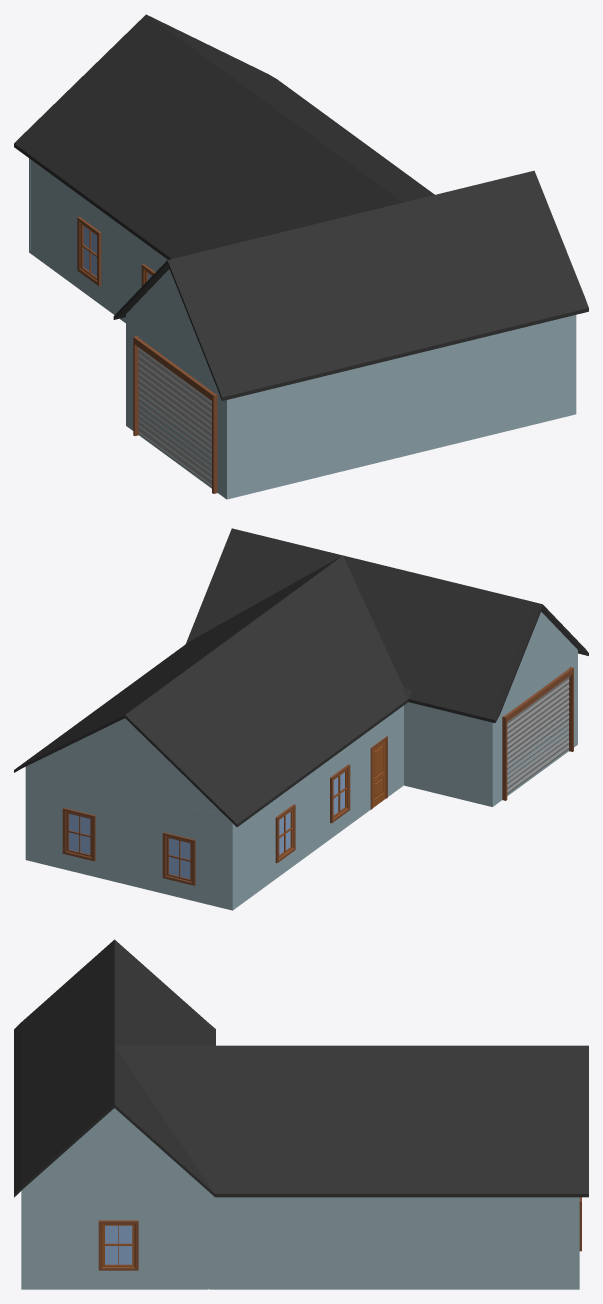
Rendered from house1.fbx.
The picture shows the model from 3 angles, top to bottom: view 1: azimuth 30°, elevation 25°; view 2: azimuth 150°, elevation 25°; view 3: azimuth 270°, elevation 25°; orthographic projection. The views are drawn at different scales.
Parts seen in each view (by area): view 1: Plane, Plane.001, Right, Wall Front.001, Front, Cube.037, Window Frame.001; view 2: Plane.001, Plane, Wall left.001, Wall Front.001, Left, Front, Cube.037, Window Frame.002, Window Frame.003, Door, Window Frame, Window Frame.001 (+2 smaller); view 3: Plane.001, Plane, Wall Back.001, Back, Window Frame.004, Window Glass.004, Floor.001.
Boxes of the visible parts, bbox=[...] form: Plane: bbox=[113, 170, 588, 400]; Plane.001: bbox=[14, 14, 434, 259]; Right: bbox=[228, 315, 574, 498]; Wall Front.001: bbox=[30, 159, 167, 322]; Front: bbox=[126, 316, 228, 497]; Cube.037: bbox=[133, 336, 217, 493]; Window Frame.001: bbox=[77, 216, 101, 286]; Plane.001: bbox=[14, 555, 408, 827]; Plane: bbox=[186, 528, 588, 722]; Wall left.001: bbox=[25, 767, 233, 908]; Wall Front.001: bbox=[233, 705, 403, 909]; Left: bbox=[404, 702, 490, 804]; Front: bbox=[491, 652, 577, 805]; Cube.037: bbox=[502, 667, 573, 800]; Window Frame.002: bbox=[162, 832, 195, 885]; Window Frame.003: bbox=[62, 808, 95, 861]; Door: bbox=[372, 740, 385, 807]; Window Frame: bbox=[330, 764, 350, 823]; Window Frame.001: bbox=[275, 804, 295, 863]; Plane.001: bbox=[115, 1045, 588, 1197]; Plane: bbox=[14, 939, 215, 1197]; Wall Back.001: bbox=[207, 1191, 577, 1287]; Back: bbox=[21, 1188, 207, 1287]; Window Frame.004: bbox=[98, 1220, 138, 1270]; Window Glass.004: bbox=[105, 1225, 132, 1264]; Floor.001: bbox=[207, 1287, 579, 1289].
Bounding box in the file's own units: 2101 × 1120 × 3090.
